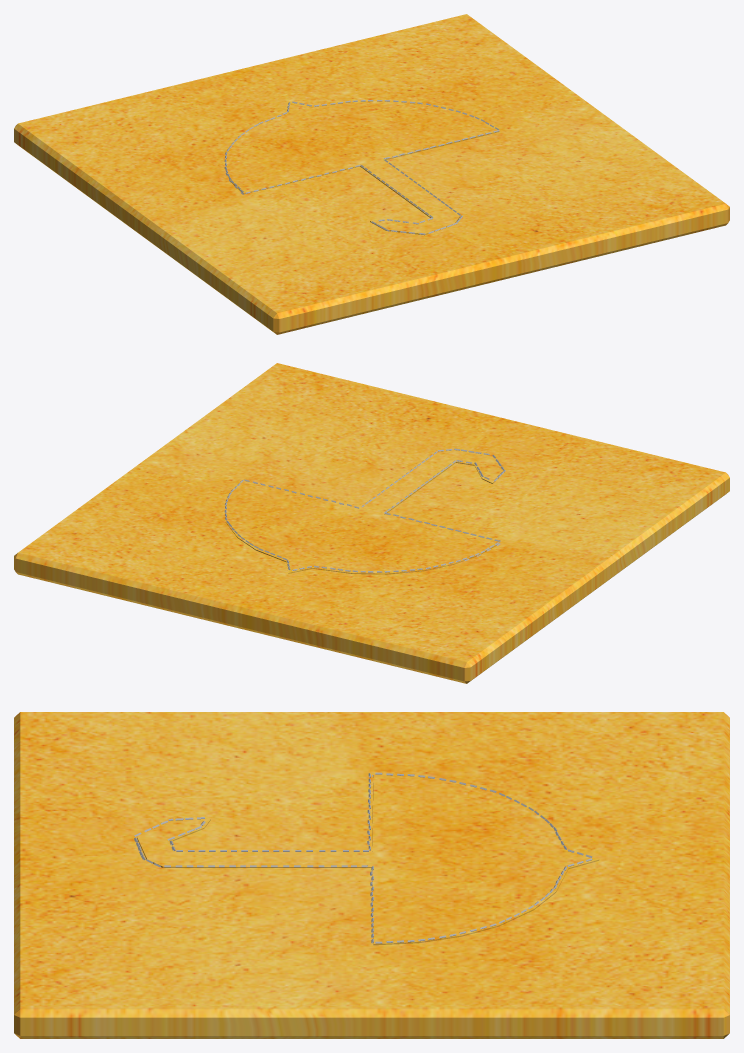
The model's file is keo_caio.fbx.
The picture shows the model from 3 angles, top to bottom: view 1: azimuth 30°, elevation 25°; view 2: azimuth 150°, elevation 25°; view 3: azimuth 270°, elevation 25°; orthographic projection. The views are drawn at different scales.
Parts seen in each view (by area): view 1: polySurface286, polySurface289, polySurface290, polySurface288, O002, vach; view 2: polySurface286, polySurface290, polySurface289, polySurface288, O002, vach; view 3: polySurface286, polySurface289, polySurface288, polySurface290, O002, vach.
Boxes of the visible parts, x1,y1,x2,y2 form: polySurface286: (384,85,729,279); polySurface289: (143,166,503,334); polySurface290: (14,69,287,237); polySurface288: (242,14,563,119); O002: (224,100,499,235); vach: (224,100,499,234); polySurface286: (115,363,501,508); polySurface290: (240,544,600,683); polySurface289: (385,418,729,586); polySurface288: (14,481,288,628); O002: (224,451,501,574); vach: (224,448,505,572); polySurface286: (14,839,460,1038); polySurface289: (14,712,373,865); polySurface288: (419,860,729,1038); polySurface290: (372,712,729,865); O002: (137,775,599,945); vach: (134,772,592,943).
Size of the model in its own units: 142 by 7.78 by 142.
